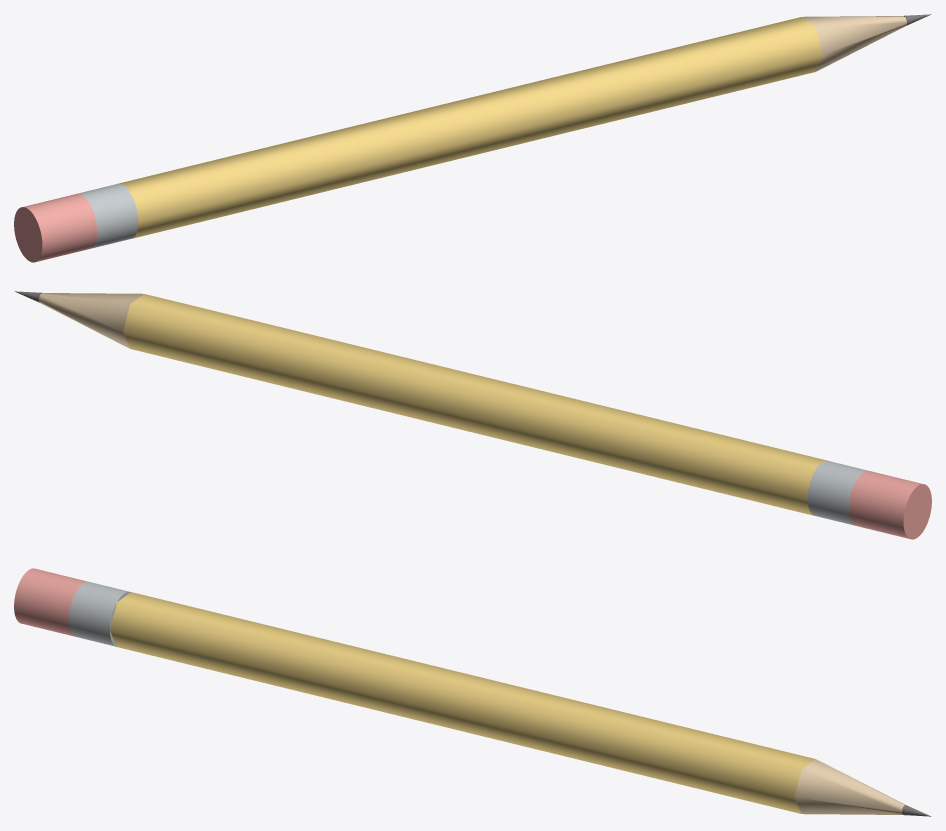
Rendered from pencil-red-faceted.glb.
3 views of the same model, one above another, from view 1: azimuth 30°, elevation 25°; view 2: azimuth 150°, elevation 25°; view 3: azimuth 330°, elevation 25° (orthographic).
Parts seen in each view (by area): view 1: Refined_Pencil_Shaft, Refined_Pencil_Eraser, Refined_Pencil_Wood, Refined_Pencil_Ferrule; view 2: Refined_Pencil_Shaft, Refined_Pencil_Eraser, Refined_Pencil_Wood, Refined_Pencil_Ferrule; view 3: Refined_Pencil_Shaft, Refined_Pencil_Wood, Refined_Pencil_Eraser, Refined_Pencil_Ferrule.
Part boxes in pixels (x1,y1,x2,y2): Refined_Pencil_Shaft: (117, 17, 822, 238); Refined_Pencil_Eraser: (14, 193, 97, 262); Refined_Pencil_Wood: (802, 16, 906, 71); Refined_Pencil_Ferrule: (78, 183, 138, 248); Refined_Pencil_Shaft: (123, 294, 828, 515); Refined_Pencil_Eraser: (848, 470, 931, 539); Refined_Pencil_Wood: (39, 293, 143, 348); Refined_Pencil_Ferrule: (807, 460, 867, 525); Refined_Pencil_Shaft: (110, 592, 815, 813); Refined_Pencil_Wood: (794, 759, 905, 814); Refined_Pencil_Eraser: (14, 568, 87, 636); Refined_Pencil_Ferrule: (68, 581, 130, 646).
Size of the model in its own units: 0.198 by 0.0108 by 0.0108.
